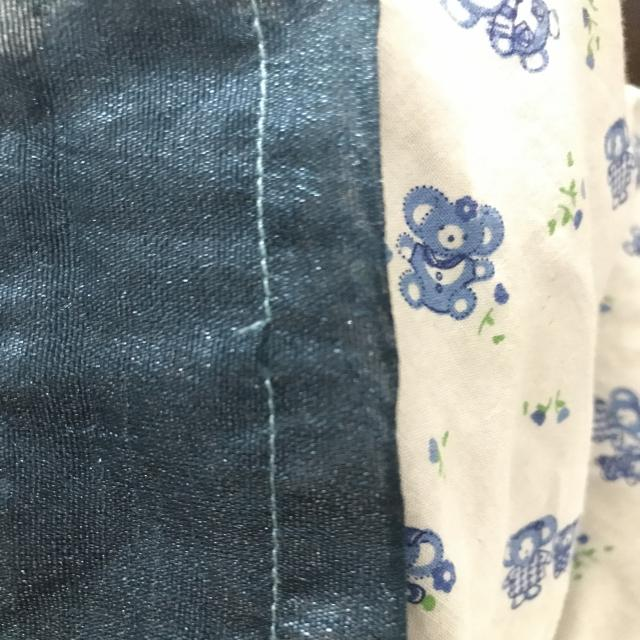broken: (234, 291, 306, 411)
good: (244, 142, 286, 270)
